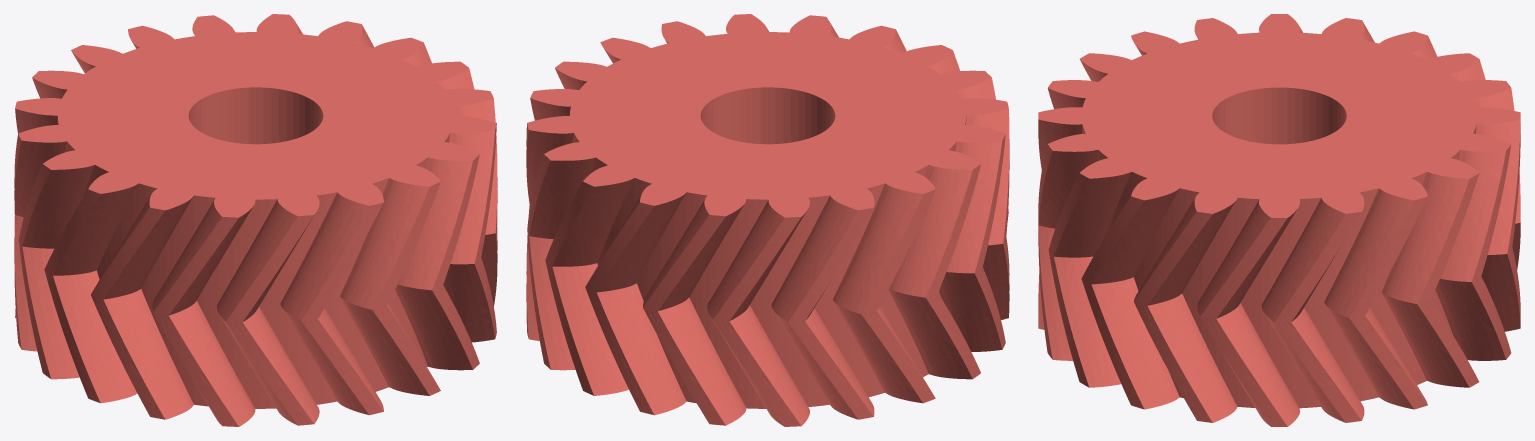
File: left_gear.dae
The picture shows the model from 3 angles, left to right: view 1: azimuth 30°, elevation 25°; view 2: azimuth 150°, elevation 25°; view 3: azimuth 270°, elevation 25°; orthographic projection.
Visible parts, largest first — view 1: Left Gear; view 2: Left Gear; view 3: Left Gear.
Part boxes in pixels (x1=…): Left Gear: x1=14, y1=14, x2=497, y2=426; Left Gear: x1=526, y1=14, x2=1009, y2=426; Left Gear: x1=1038, y1=14, x2=1520, y2=426.
Size of the model in its own units: 0.0251 by 0.0251 by 0.012.
